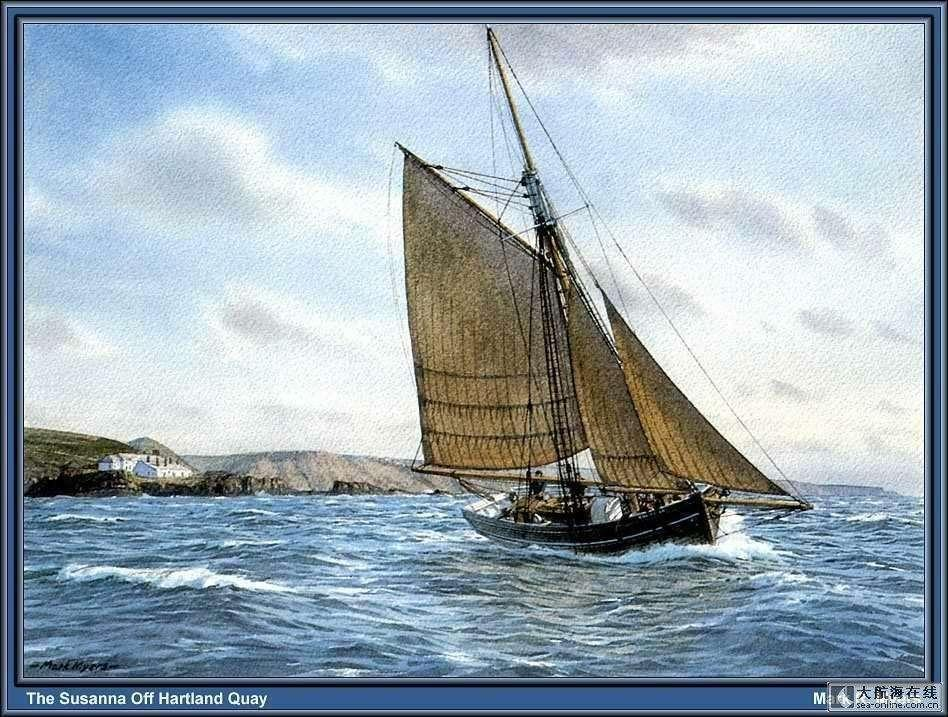fanchuan: (383, 12, 820, 553)
